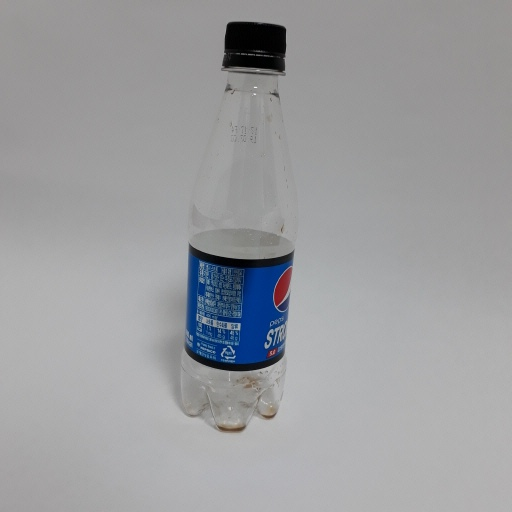Plastic_0: (180, 16, 299, 436)
